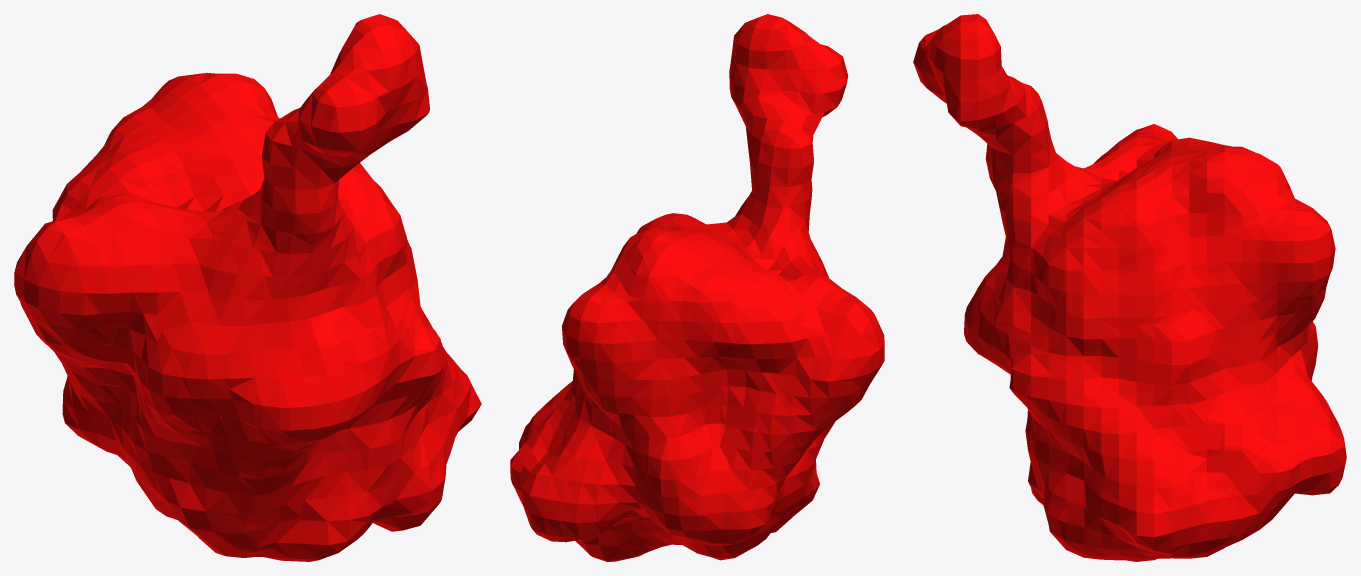
Rendered from pheP_coarse.dae.
3 views of the same model, side by side, from view 1: azimuth 30°, elevation 25°; view 2: azimuth 150°, elevation 25°; view 3: azimuth 270°, elevation 25° (orthographic). The views are drawn at different scales.
Parts seen in each view (by area): view 1: pheP; view 2: pheP; view 3: pheP.
Boxes of the visible parts, x1,y1,x2,y2 form: pheP: (14, 14, 481, 561); pheP: (510, 14, 884, 561); pheP: (913, 14, 1346, 561).
Size of the model in its own units: 66.81 by 82.89 by 64.75.
